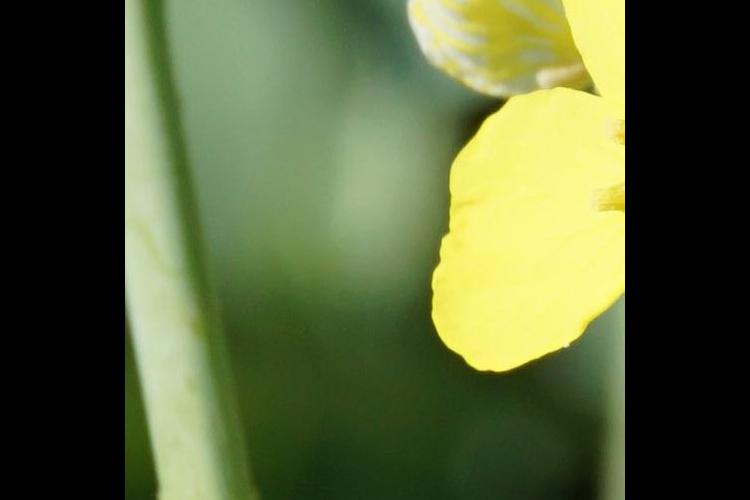yellow: (417, 1, 621, 397)
